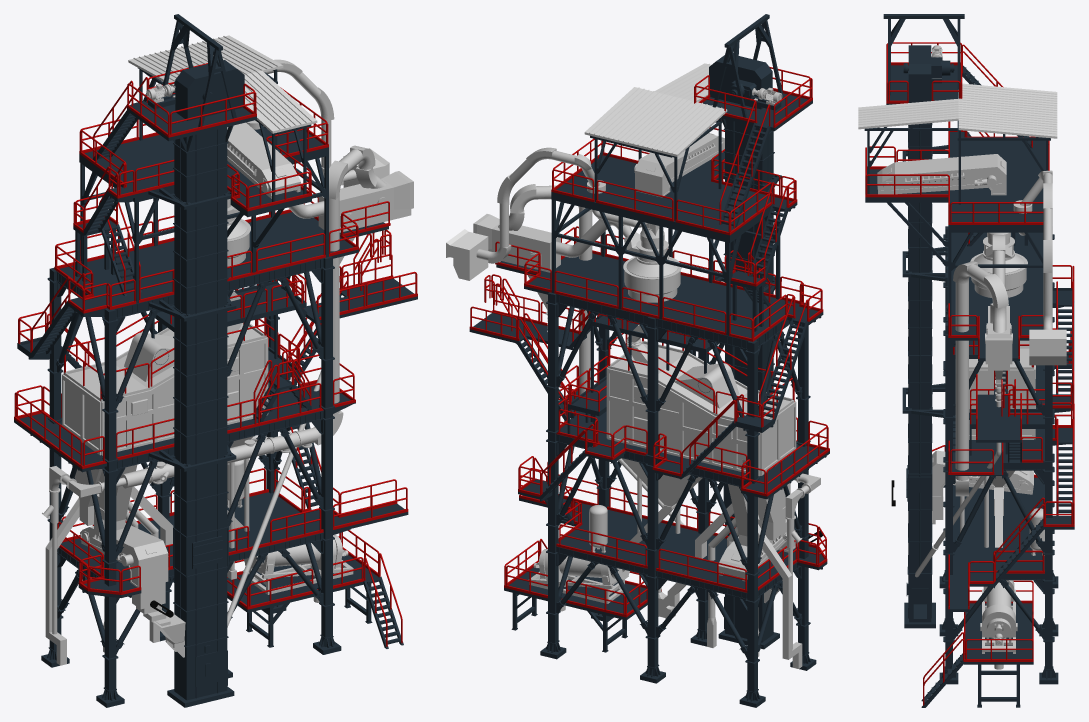
3 views of the same model, side by side, from view 1: azimuth 30°, elevation 25°; view 2: azimuth 150°, elevation 25°; view 3: azimuth 270°, elevation 25° (orthographic). The views are drawn at different scales.
Visible parts, largest first — view 1: Obj3d66-5391125-12-741, Obj3d66-5391125-16-26, Obj3d66-5391125-9-664, Obj3d66-5391125-10-445, Obj3d66-5391125-11-826, Obj3d66-5391125-13-609, Obj3d66-5391125-14-242, Obj3d66-5391125-28-880; view 2: Obj3d66-5391125-12-741, Obj3d66-5391125-9-664, Obj3d66-5391125-16-26, Obj3d66-5391125-11-826, Obj3d66-5391125-10-445, Obj3d66-5391125-13-609, Obj3d66-5391125-14-242, Obj3d66-5391125-29-729, Obj3d66-5391125-28-880; view 3: Obj3d66-5391125-12-741, Obj3d66-5391125-16-26, Obj3d66-5391125-9-664, Obj3d66-5391125-10-445, Obj3d66-5391125-13-609, Obj3d66-5391125-11-826, Obj3d66-5391125-14-242, Obj3d66-5391125-29-729, Obj3d66-5391125-17-50.
Boxes of the visible parts, left/top/right/bottom form: Obj3d66-5391125-12-741: left=14, top=14, right=417, bottom=707; Obj3d66-5391125-16-26: left=42, top=59, right=413, bottom=665; Obj3d66-5391125-9-664: left=14, top=63, right=417, bottom=646; Obj3d66-5391125-10-445: left=17, top=101, right=403, bottom=648; Obj3d66-5391125-11-826: left=62, top=323, right=268, bottom=455; Obj3d66-5391125-13-609: left=128, top=35, right=317, bottom=133; Obj3d66-5391125-14-242: left=148, top=60, right=244, bottom=120; Obj3d66-5391125-28-880: left=353, top=229, right=391, bottom=290; Obj3d66-5391125-12-741: left=469, top=14, right=829, bottom=707; Obj3d66-5391125-9-664: left=469, top=66, right=829, bottom=617; Obj3d66-5391125-16-26: left=473, top=94, right=820, bottom=668; Obj3d66-5391125-11-826: left=606, top=340, right=796, bottom=476; Obj3d66-5391125-10-445: left=504, top=122, right=808, bottom=652; Obj3d66-5391125-13-609: left=584, top=63, right=727, bottom=156; Obj3d66-5391125-14-242: left=709, top=55, right=781, bottom=110; Obj3d66-5391125-29-729: left=446, top=229, right=488, bottom=280; Obj3d66-5391125-28-880: left=484, top=274, right=519, bottom=331; Obj3d66-5391125-12-741: left=864, top=14, right=1074, bottom=684; Obj3d66-5391125-16-26: left=877, top=48, right=1052, bottom=669; Obj3d66-5391125-9-664: left=865, top=42, right=1074, bottom=705; Obj3d66-5391125-10-445: left=921, top=65, right=1074, bottom=707; Obj3d66-5391125-13-609: left=858, top=83, right=1057, bottom=138; Obj3d66-5391125-11-826: left=969, top=340, right=1035, bottom=439; Obj3d66-5391125-14-242: left=903, top=45, right=954, bottom=102; Obj3d66-5391125-29-729: left=1029, top=329, right=1066, bottom=365; Obj3d66-5391125-17-50: left=904, top=602, right=935, bottom=628.
Bounding box in the file's own units: 241 × 427 × 139.
